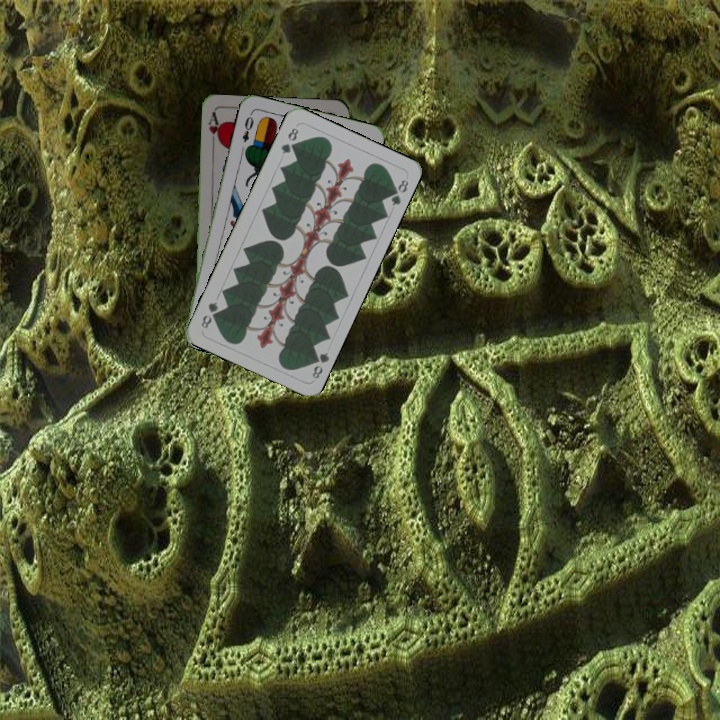EO: (238, 109, 256, 145)
G8: (307, 348, 332, 381), (277, 124, 301, 157)
HA: (204, 109, 224, 150)
